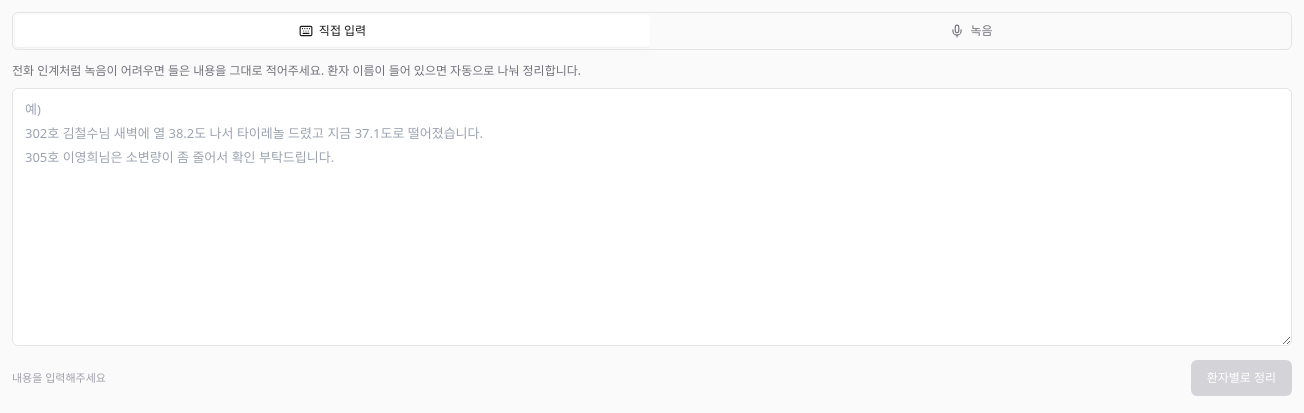
Test: ConversationInput › offers recording once a Whisper key exists
Click the button "녹음": (972, 31) [654, 15, 1289, 47]
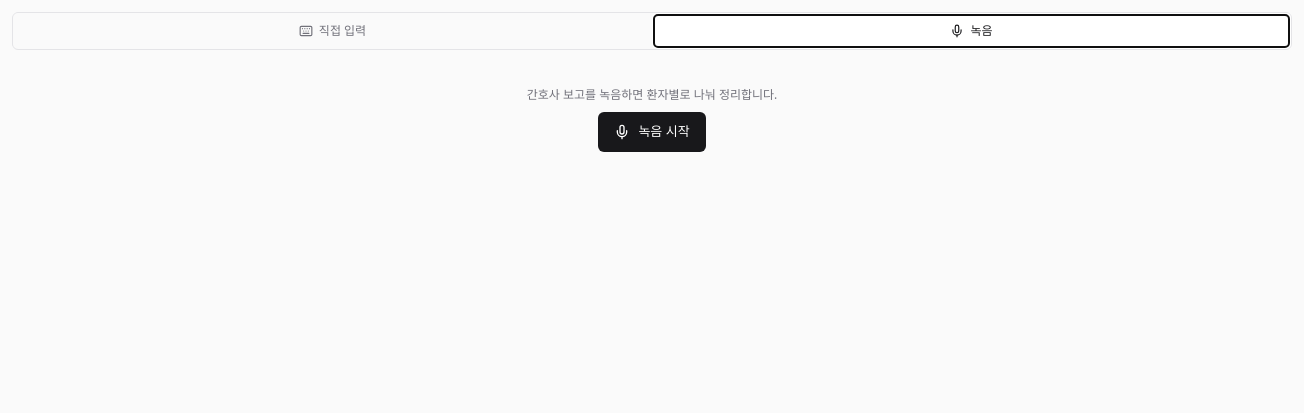
Check: the button "녹음 시작" is shown, box [598, 112, 706, 152]
